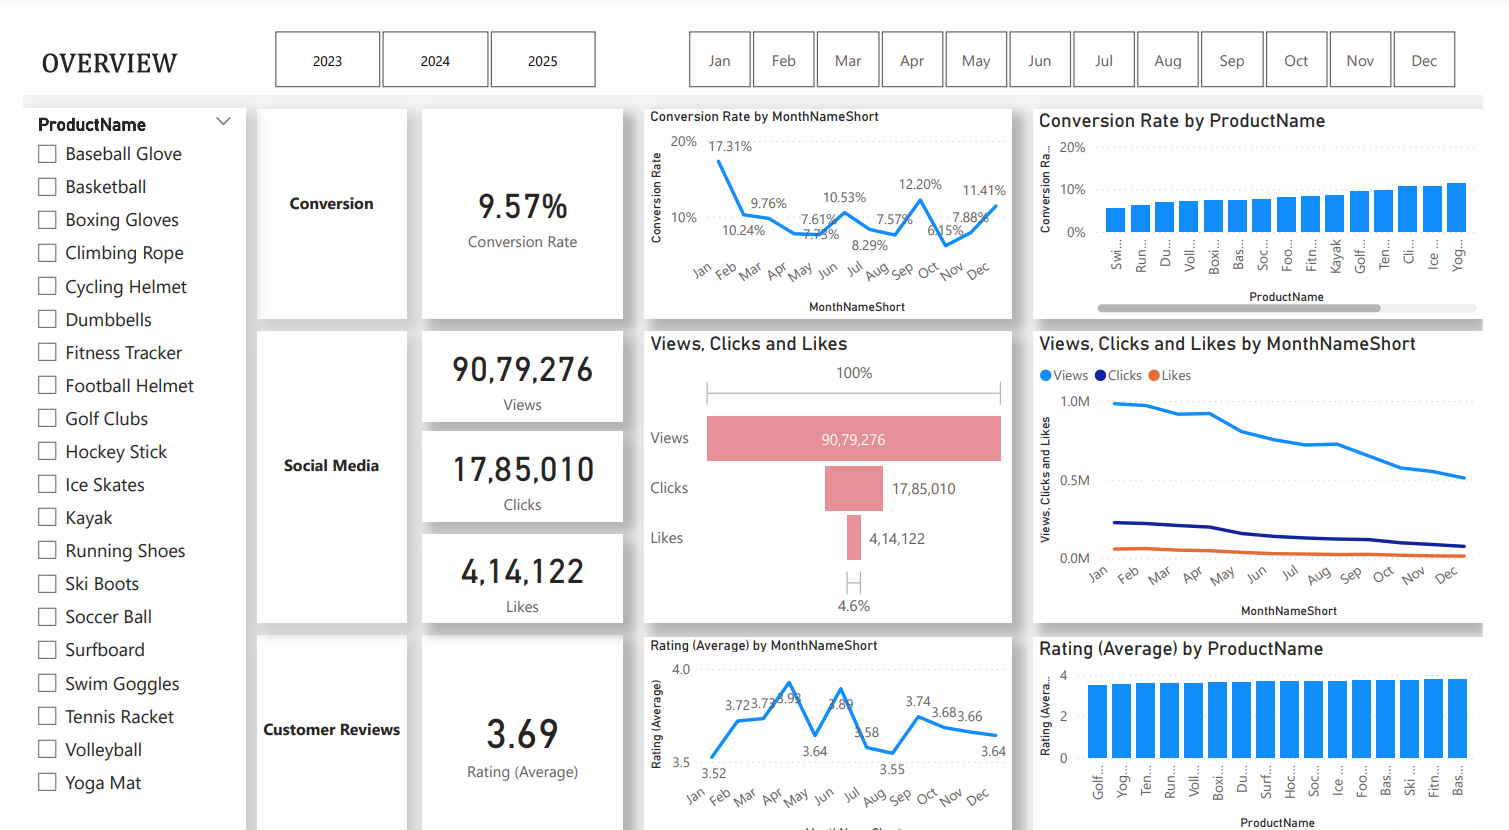

What the dashboard file says about the page in this screenshot:
{"tool":"powerbi","page":{"name":"Overview","canvas":[1280,720],"ordinal":0},"visuals":[{"type":"textbox","box":[0,0,1280.3,63.1],"z":0},{"type":"textbox","box":[205.4,74.6,130.8,184.6],"z":1000},{"type":"slicer","fields":{"Values":["dim_products.ProductName"]},"box":[0,74.1,194.9,646.3],"z":2000},{"type":"textbox","box":[205.4,535.6,130.8,184.6],"z":3000},{"type":"textbox","box":[205.4,270.2,130.8,255.6],"z":4000},{"type":"card","fields":{"Values":["Calculations.Conversion Rate"]},"box":[349.7,74.6,176.1,184.6],"z":5000},{"type":"card","fields":{"Values":["Calculations.Rating (Average)"]},"box":[349.7,535.6,176.1,184.6],"z":6000},{"type":"card","fields":{"Values":["Calculations.Views"]},"box":[349.7,270.2,176.1,78.3],"z":7000},{"type":"card","fields":{"Values":["Calculations.Clicks"]},"box":[349.7,358.3,176.1,78.3],"z":8000},{"type":"card","fields":{"Values":["Calculations.Likes"]},"box":[349.7,447.6,176.1,78.3],"z":9000},{"type":"slicer","fields":{"Values":["Calendar.Year"]},"box":[194.9,0,330.7,63.1],"z":10000},{"type":"slicer","fields":{"Values":["Calendar.MonthNameShort"]},"box":[558.5,0,721.8,63.1],"z":11000},{"type":"lineChart","fields":{"Y":["Calculations.Conversion Rate"],"Category":["Calendar.MonthNameShort"]},"box":[544.8,75.5,322.5,183.9],"z":12000},{"type":"clusteredColumnChart","fields":{"Category":["dim_products.ProductName"],"Y":["Calculations.Conversion Rate"]},"box":[886.5,75.5,393.8,183.9],"z":13000},{"type":"lineChart","fields":{"Category":["Calendar.MonthNameShort"],"Y":["Calculations.Views","Calculations.Clicks","Calculations.Likes"]},"box":[886.5,270.3,393.8,255.2],"z":14000},{"type":"funnel","fields":{"Y":["Calculations.Views","Calculations.Clicks","Calculations.Likes"]},"box":[544.8,270.3,322.5,255.2],"z":15000},{"type":"lineChart","fields":{"Y":["Calculations.Rating (Average)"],"Category":["Calendar.MonthNameShort"]},"box":[544.8,537.9,322.5,182.5],"z":16000},{"type":"clusteredColumnChart","fields":{"Category":["dim_products.ProductName"],"Y":["Calculations.Rating (Average)"]},"box":[886,538,394,182],"z":17000}]}

Visuals, with their boxes in screenshot pixels (x1, y1, x2, y2), scaled from the page's 1280x720 canvas onto the 1509x830 screenshot:
textbox: select_region(0, 0, 1508, 73)
textbox: select_region(242, 86, 396, 299)
slicer - dim_products.ProductName: select_region(0, 85, 230, 829)
textbox: select_region(242, 617, 396, 829)
textbox: select_region(242, 311, 396, 606)
card - Calculations.Conversion Rate: select_region(412, 86, 620, 299)
card - Calculations.Rating (Average): select_region(412, 617, 620, 829)
card - Calculations.Views: select_region(412, 311, 620, 402)
card - Calculations.Clicks: select_region(412, 413, 620, 503)
card - Calculations.Likes: select_region(412, 516, 620, 606)
slicer - Calendar.Year: select_region(230, 0, 620, 73)
slicer - Calendar.MonthNameShort: select_region(658, 0, 1508, 73)
lineChart - Calculations.Conversion Rate x Calendar.MonthNameShort: select_region(642, 87, 1022, 299)
clusteredColumnChart - dim_products.ProductName x Calculations.Conversion Rate: select_region(1045, 87, 1508, 299)
lineChart - Calendar.MonthNameShort x Calculations.Views: select_region(1045, 312, 1508, 606)
funnel - Calculations.Views x Calculations.Clicks: select_region(642, 312, 1022, 606)
lineChart - Calculations.Rating (Average) x Calendar.MonthNameShort: select_region(642, 620, 1022, 829)
clusteredColumnChart - dim_products.ProductName x Calculations.Rating (Average): select_region(1045, 620, 1508, 829)
